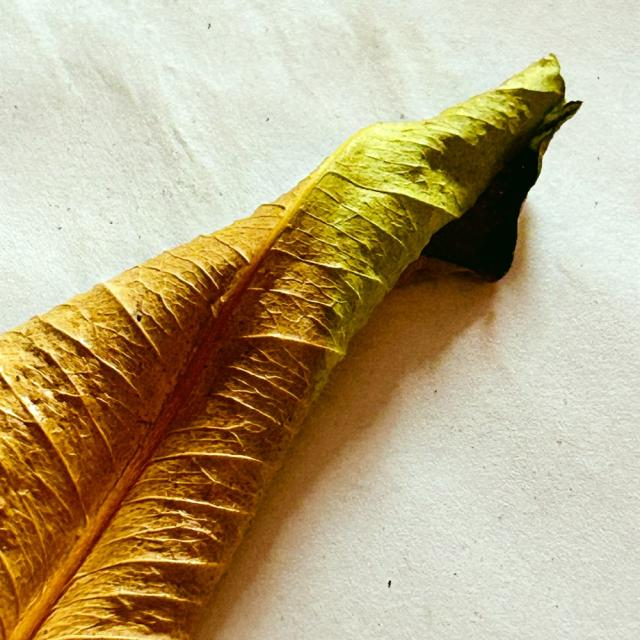DryLeaf_Lemon: (0, 147, 375, 639)
